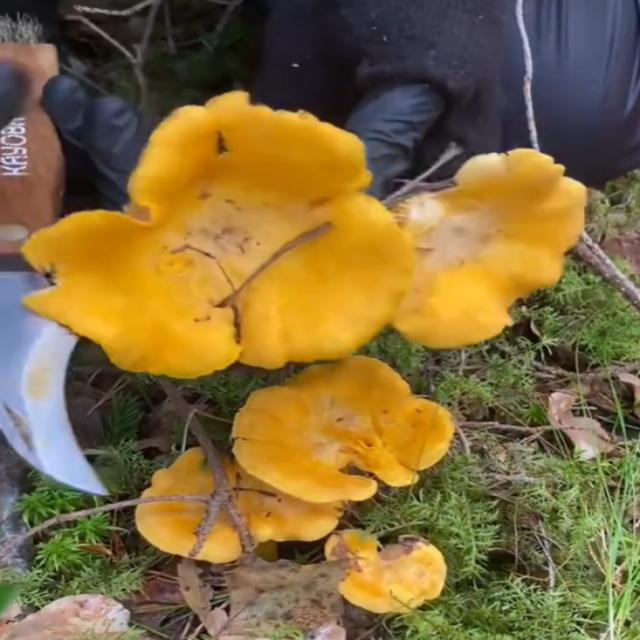chanterelle: (19, 91, 414, 382), (385, 148, 590, 351), (230, 357, 455, 505)
